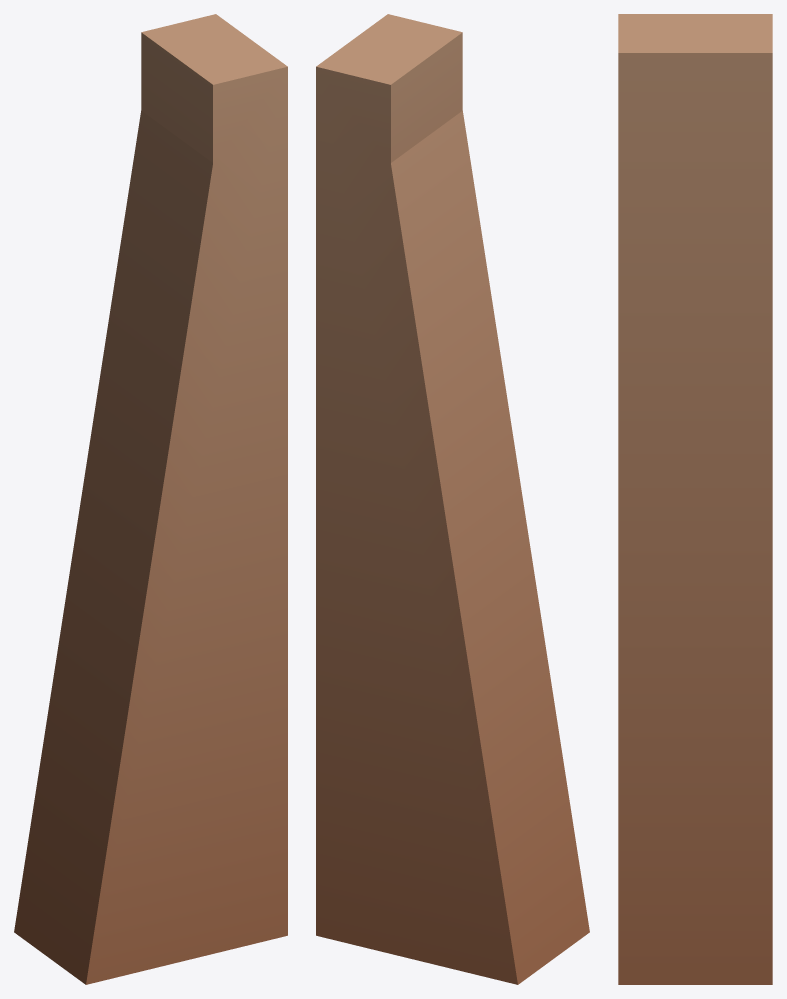
The model's file is wall-stud.glb.
3 views of the same model, side by side, from view 1: azimuth 30°, elevation 25°; view 2: azimuth 150°, elevation 25°; view 3: azimuth 270°, elevation 25° (orthographic). The views are drawn at different scales.
Parts seen in each view (by area): view 1: wall-stud; view 2: wall-stud; view 3: wall-stud.
Part boxes in pixels (x1,y1,x2,y2): wall-stud: (14,14,287,984); wall-stud: (316,14,589,984); wall-stud: (618,14,772,984).
Bounding box in the file's own units: 0.27 × 1.11 × 0.1666.
